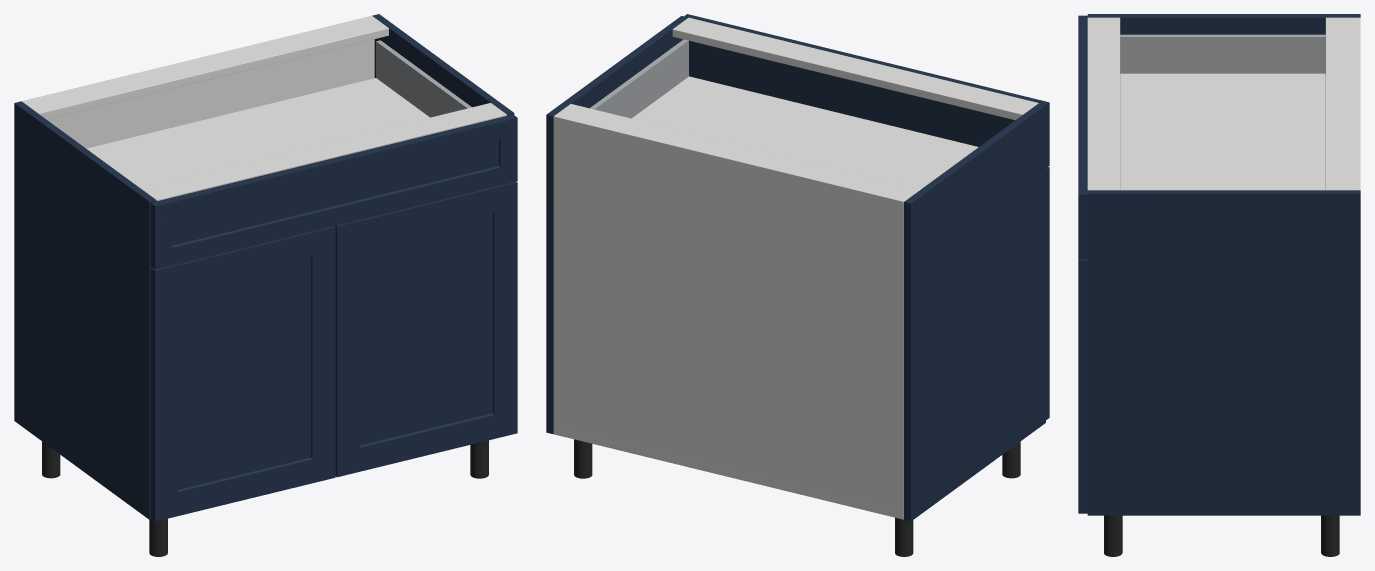
The model's file is oppein-pb-bss-b36.glb.
3 views of the same model, side by side, from view 1: azimuth 30°, elevation 25°; view 2: azimuth 150°, elevation 25°; view 3: azimuth 270°, elevation 25° (orthographic).
Parts seen in each view (by area): view 1: Door, Door.001, Cabinet side, Drawer front, Drawer floor, Cabinet back, Top support rail, Top support rail.001, Drawer side.001, Cabinet side.001, Adjustable foot.001, Adjustable foot.003; view 2: Cabinet back, Cabinet side, Drawer floor, Drawer front, Top support rail.001, Cabinet side.001, Top support rail, Drawer side.001, Cabinet bottom, Door, Adjustable foot, Adjustable foot.002; view 3: Cabinet side.001, Drawer floor, Drawer side, Top support rail.001, Top support rail, Cabinet side, Door.001, Drawer front, Cabinet back, Adjustable foot.003, Adjustable foot.002.
Boxes of the visible parts, x1,y1,x2,y2 form: Door: [150, 226, 335, 521]; Door.001: [335, 181, 517, 477]; Cabinet side: [14, 101, 156, 519]; Drawer front: [150, 114, 517, 269]; Drawer floor: [86, 78, 429, 188]; Cabinet back: [21, 15, 374, 148]; Top support rail: [23, 17, 388, 119]; Top support rail.001: [141, 103, 506, 201]; Drawer side.001: [376, 40, 471, 117]; Cabinet side.001: [372, 14, 514, 115]; Adjustable foot.001: [149, 518, 167, 556]; Adjustable foot.003: [470, 440, 488, 478]; Cabinet back: [553, 114, 905, 519]; Cabinet side: [904, 103, 1045, 521]; Drawer floor: [632, 76, 978, 188]; Drawer front: [684, 14, 1049, 167]; Top support rail.001: [672, 17, 1038, 120]; Cabinet side.001: [546, 16, 688, 434]; Top support rail: [556, 104, 920, 199]; Drawer side.001: [590, 39, 688, 118]; Cabinet bottom: [553, 427, 903, 518]; Door: [1046, 167, 1049, 419]; Adjustable foot: [895, 517, 913, 556]; Adjustable foot.002: [574, 439, 592, 478]; Cabinet side.001: [1087, 190, 1360, 515]; Drawer floor: [1120, 73, 1325, 190]; Drawer side: [1120, 34, 1325, 73]; Top support rail.001: [1087, 17, 1120, 190]; Top support rail: [1325, 17, 1357, 190]; Cabinet side: [1087, 14, 1360, 34]; Door.001: [1078, 259, 1087, 513]; Drawer front: [1078, 15, 1087, 258]; Cabinet back: [1355, 17, 1360, 190]; Adjustable foot.003: [1104, 515, 1122, 556]; Adjustable foot.002: [1321, 515, 1339, 556].
Bounding box in the file's own units: 0.9144 × 0.8763 × 0.6064.
